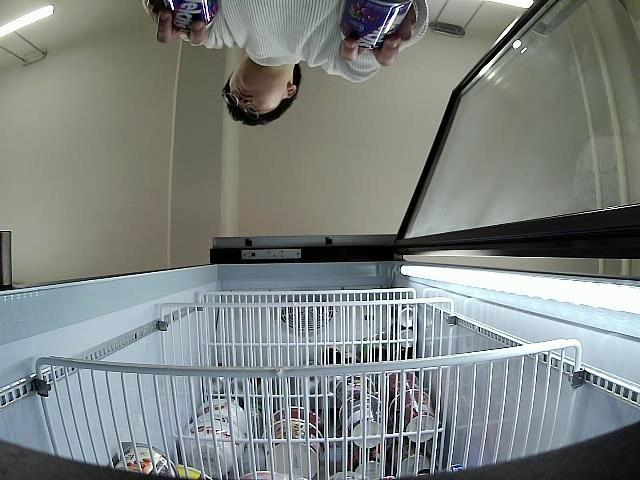14_welchsGrape: (338, 0, 412, 48), (150, 0, 222, 35)
